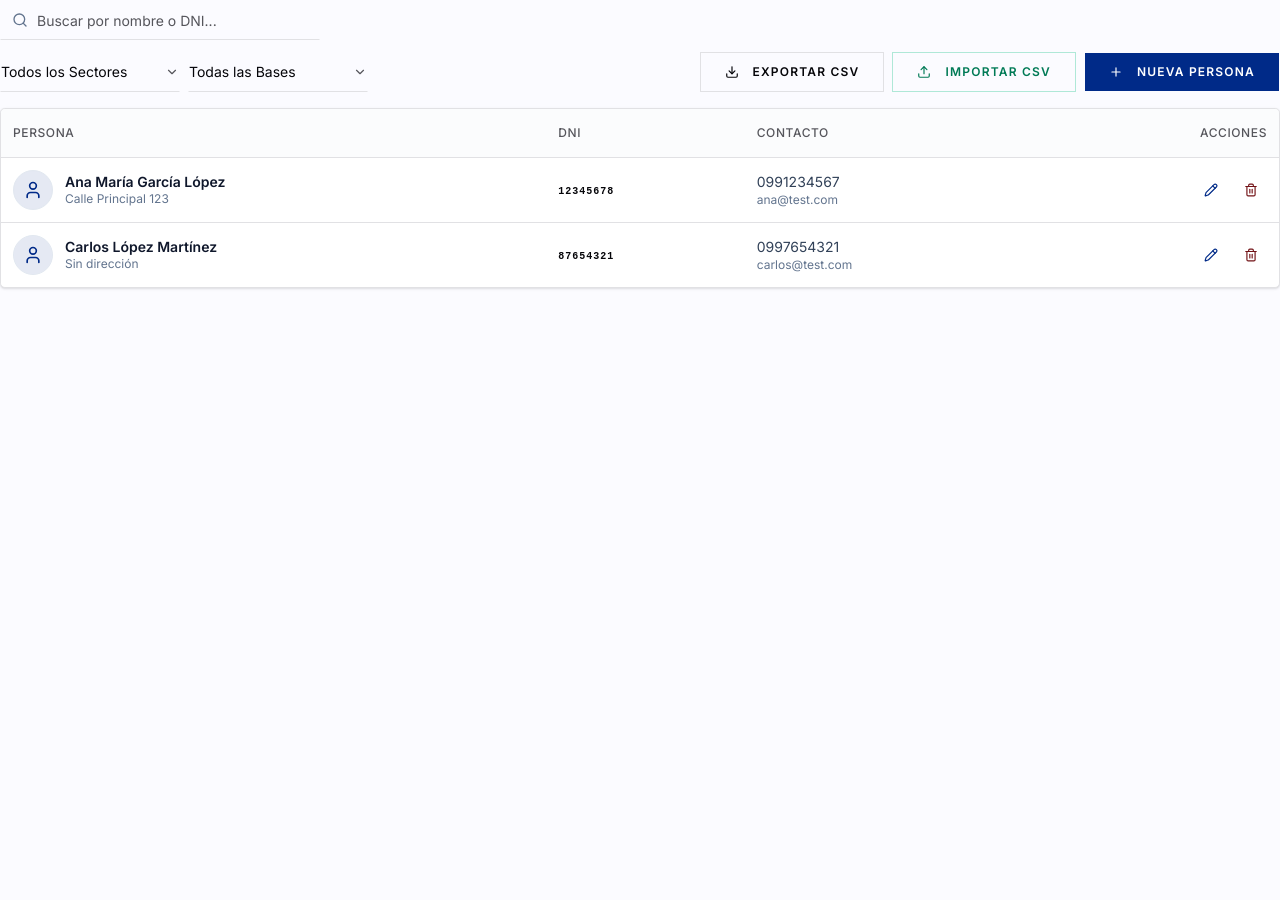
Test case: PersonasTable › cierra el modal al hacer click en Cancelar
Check: the text "Ana María García López" is shown, box left=65, top=172, right=226, bottom=191
Click the 5th button.
click(1251, 190)  # box left=1235, top=174, right=1267, bottom=206
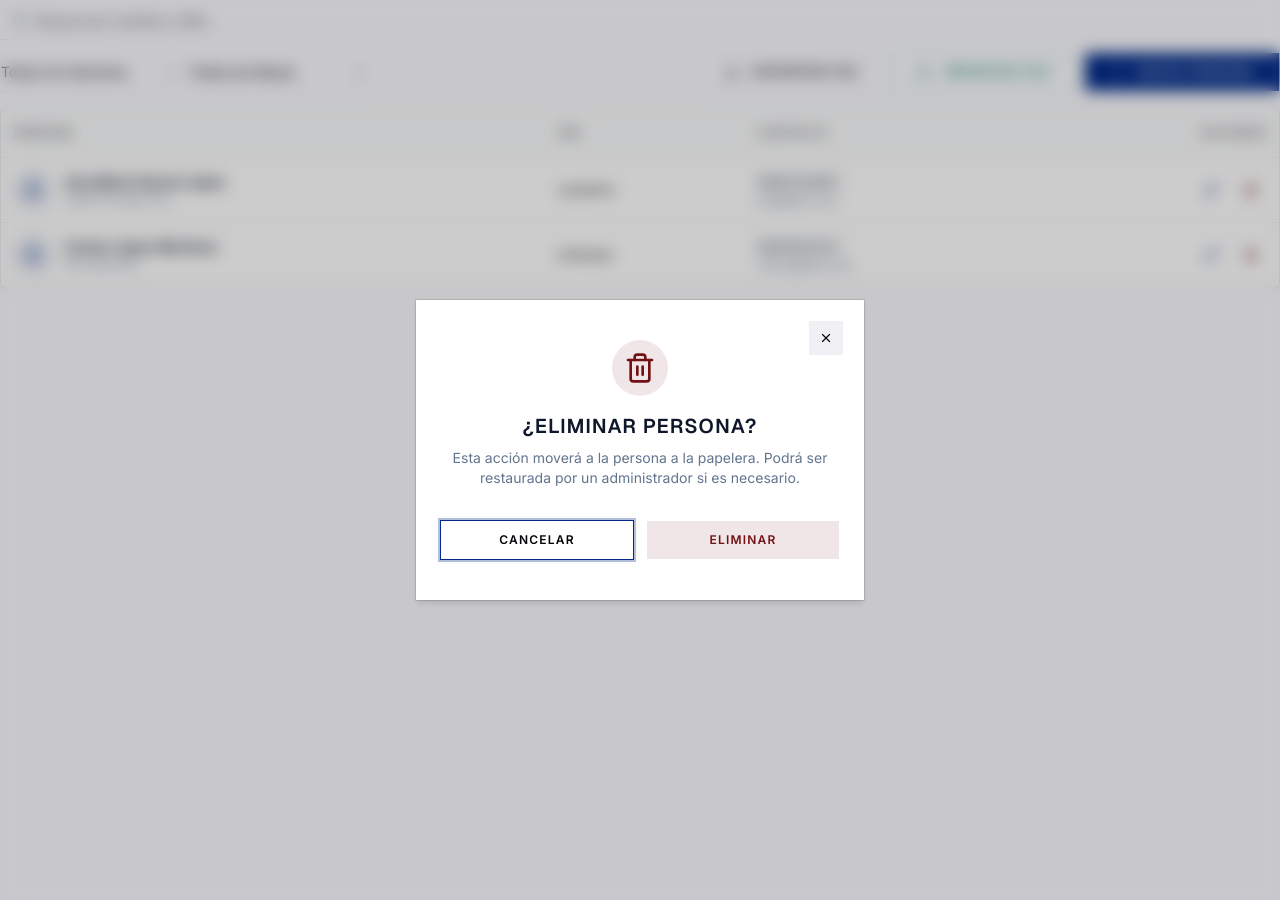
Check: the heading "¿Eliminar persona?" is shown, box left=522, top=413, right=758, bottom=439
Click the button "Cancelar".
click(537, 540)  # box left=440, top=520, right=634, bottom=560
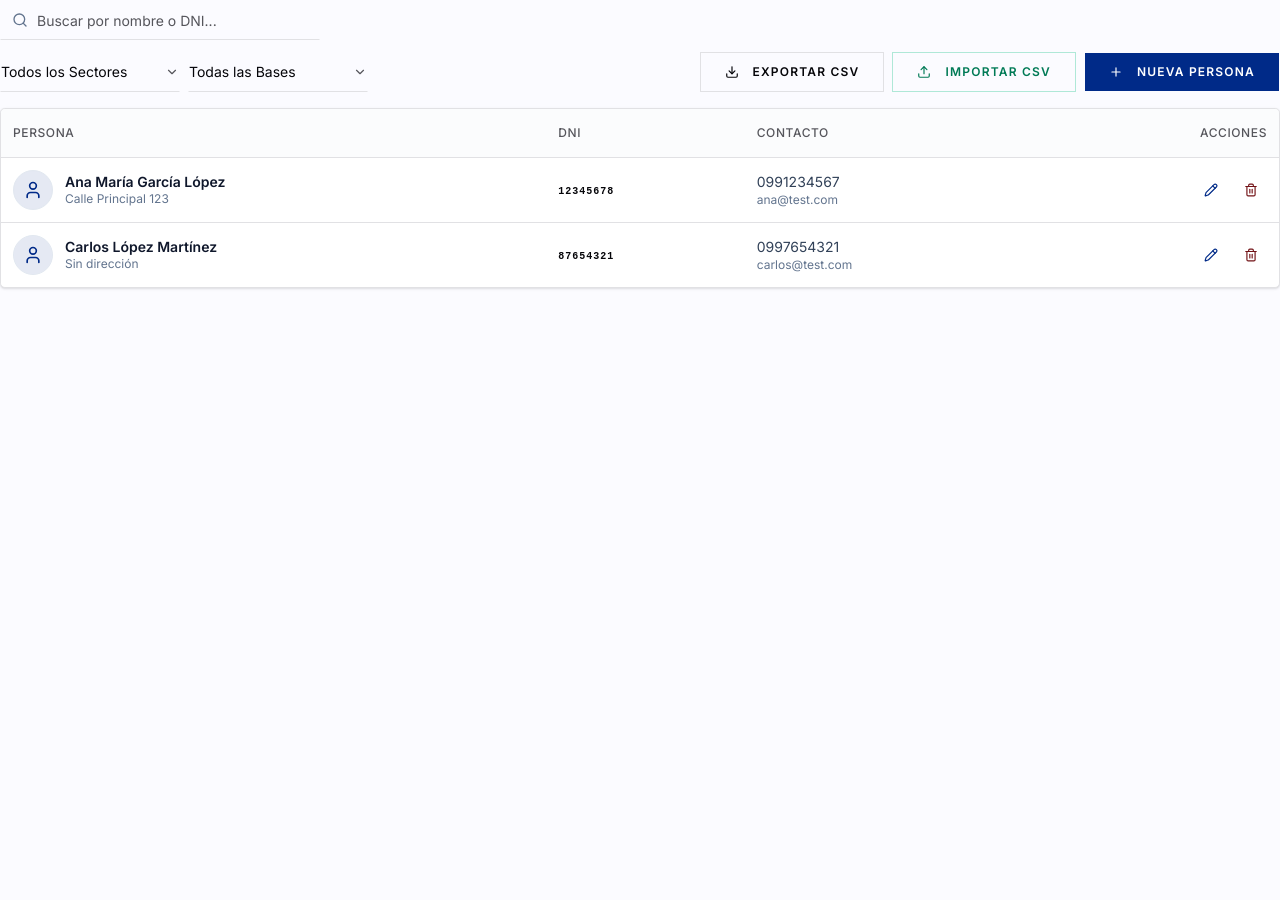
Check: the heading "¿Eliminar persona?" is gone
